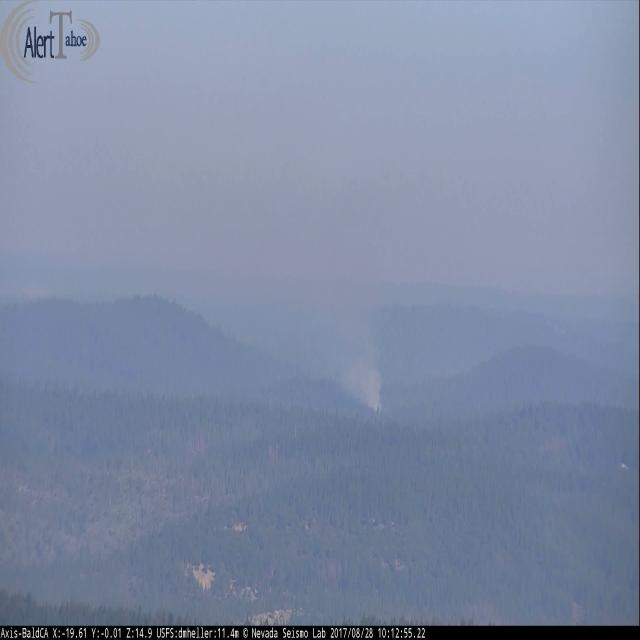smoke: (344, 348, 380, 413)
